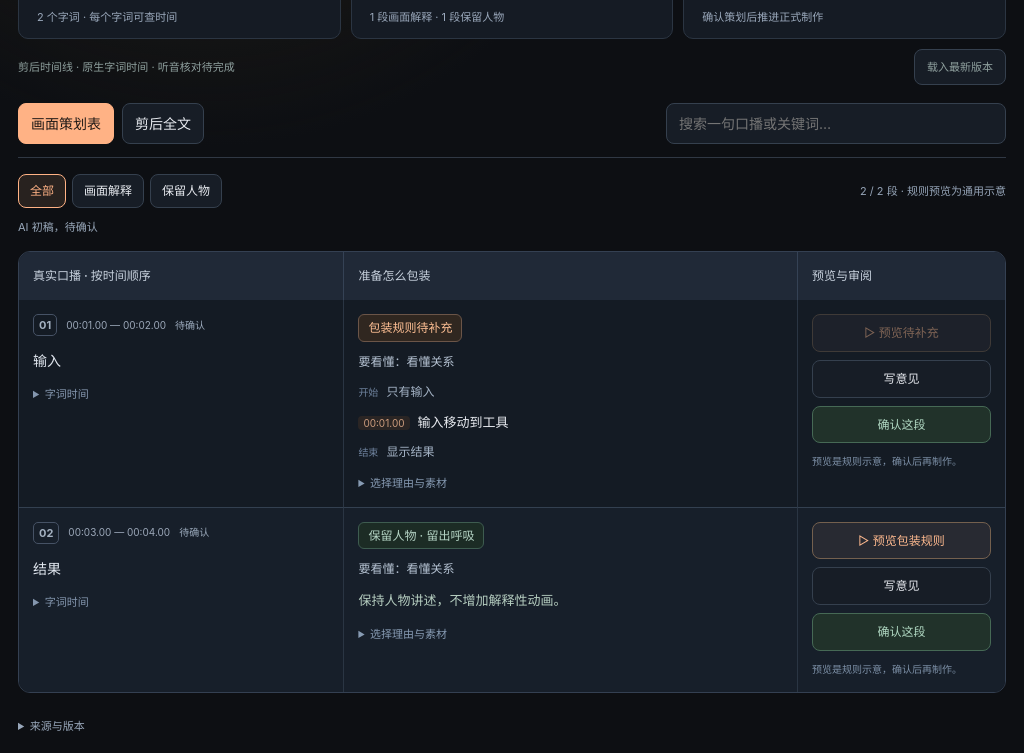
Test: 未声明包装规则不伪造预览；保留人物可使用人物规则示意
The image size is (1024, 753).
(page scrolled)
Expected: the table named "逐段口播与包装策划" is shown, [19, 252, 1005, 692]
Expected: the button with aria-label "预览第 1 段包装规则" is disabled, [812, 314, 991, 352]
Click the button with aria-label "预览第 2 段包装规则".
click(901, 540)  # box [812, 522, 991, 559]
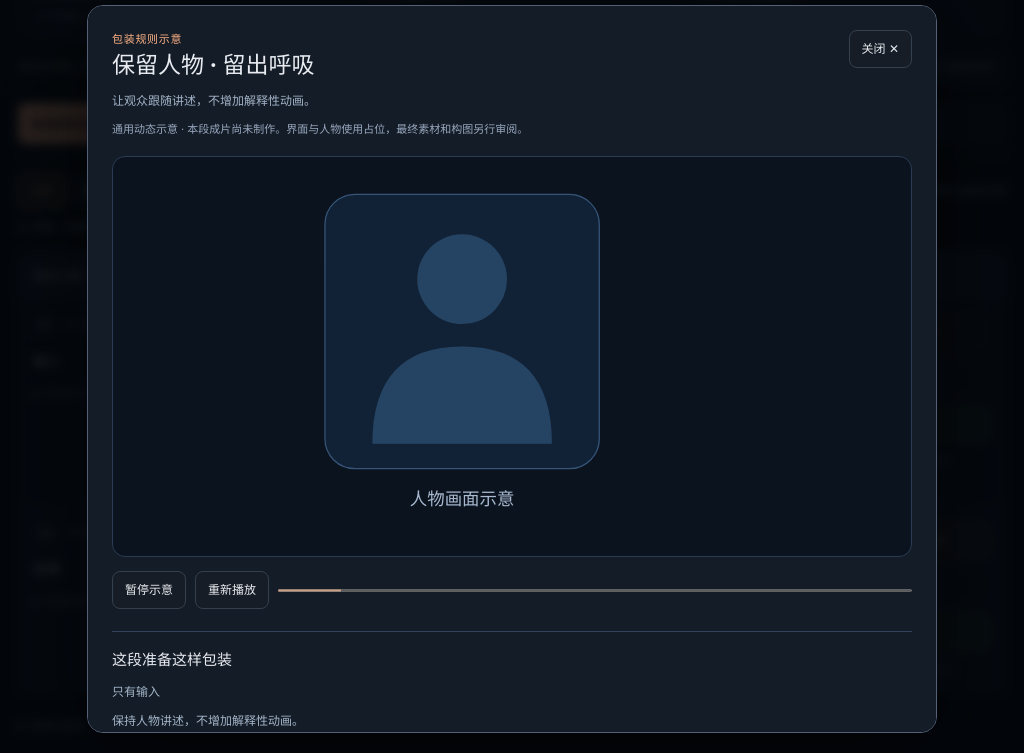
Expected: the dialog shows "保留人物 · 留出呼吸", [112, 51, 315, 79]
